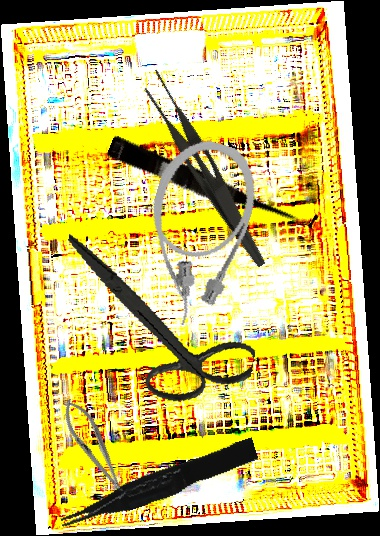Cannula: (121, 130, 269, 335)
Dressing Forceps: (130, 67, 287, 269)
Iris Scissors: (41, 231, 272, 416)
Micro Scissor: (104, 134, 304, 238)
Needle Holder: (54, 393, 136, 505)
Tissue Forceps: (54, 437, 262, 532)
